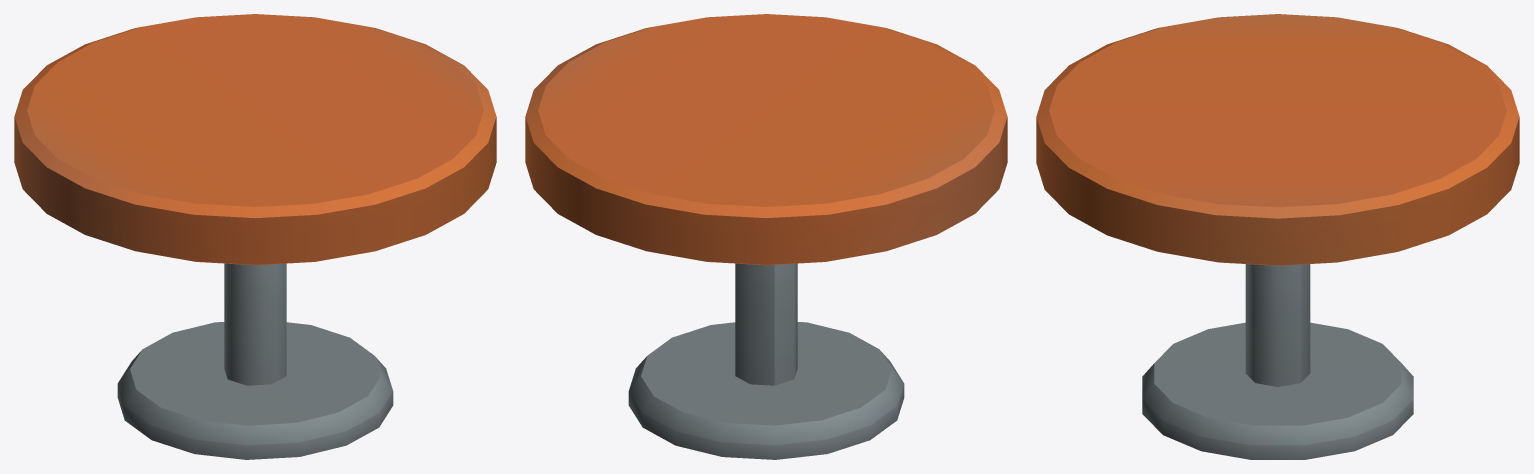
File: kkr.table_round_a_small.glb
3 views of the same model, side by side, from view 1: azimuth 30°, elevation 25°; view 2: azimuth 150°, elevation 25°; view 3: azimuth 270°, elevation 25° (orthographic).
Parts seen in each view (by area): view 1: table_round_A_small; view 2: table_round_A_small; view 3: table_round_A_small.
Part boxes in pixels (x1=…): table_round_A_small: x1=14, y1=14, x2=496, y2=459; table_round_A_small: x1=525, y1=14, x2=1007, y2=459; table_round_A_small: x1=1036, y1=14, x2=1519, y2=459.
Bounding box in the file's own units: 1.12 × 0.7451 × 1.12.
1 material, 1 textured.
